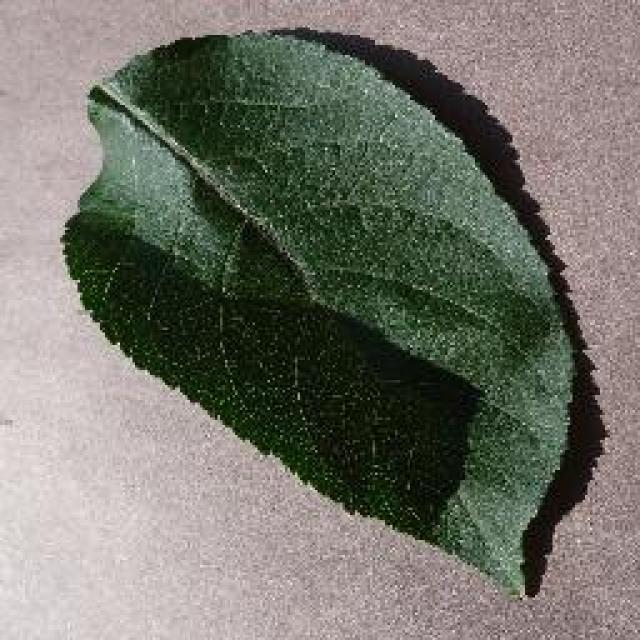apple scab disease: (58, 22, 602, 600)
